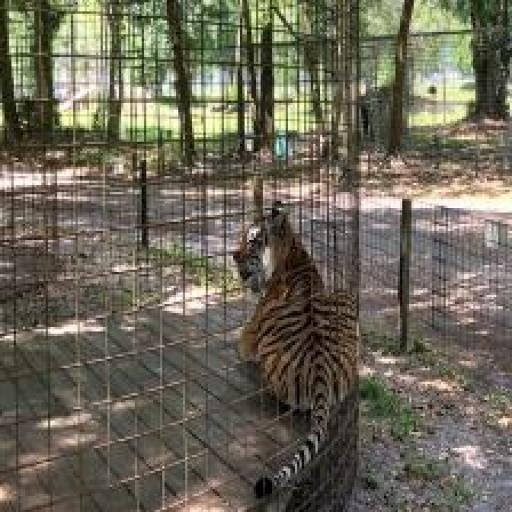Tiger: (187, 144, 407, 505)
